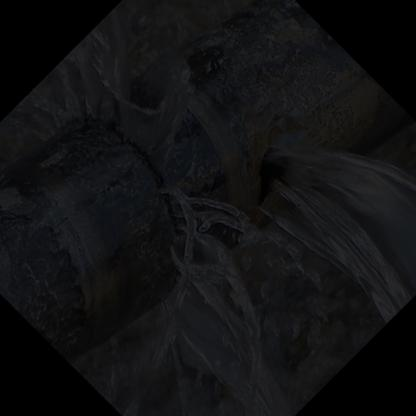burst: (62, 95, 194, 294), (250, 109, 313, 240)
